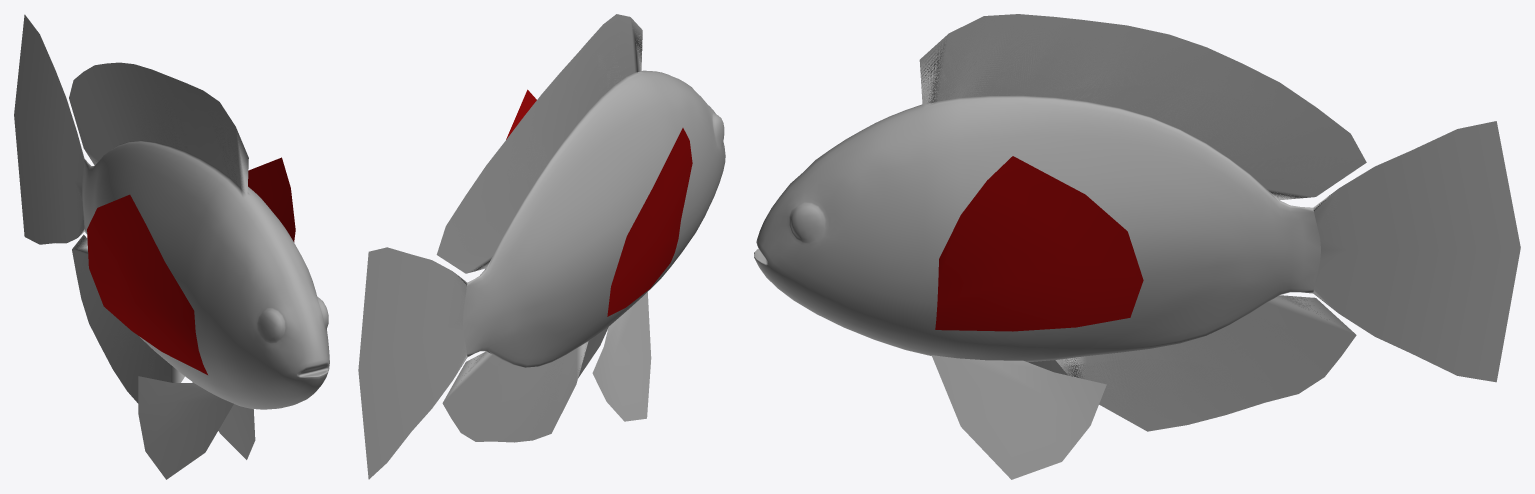
The model's file is Pomacentridae_C.fbx.
3 renders of one model, left to right at view 1: azimuth 30°, elevation 25°; view 2: azimuth 150°, elevation 25°; view 3: azimuth 270°, elevation 25°, orthographic. The views are drawn at different scales.
Visible parts, largest first — view 1: Pomacentridae_C_LOD0; view 2: Pomacentridae_C_LOD0; view 3: Pomacentridae_C_LOD0.
Part boxes in pixels (left/top/right/bottom): Pomacentridae_C_LOD0: left=14, top=14, right=329, bottom=479; Pomacentridae_C_LOD0: left=358, top=14, right=725, bottom=479; Pomacentridae_C_LOD0: left=754, top=14, right=1520, bottom=479.
Size of what is drawn, in the model's own units: 0.2792 by 0.6564 by 1.03.
